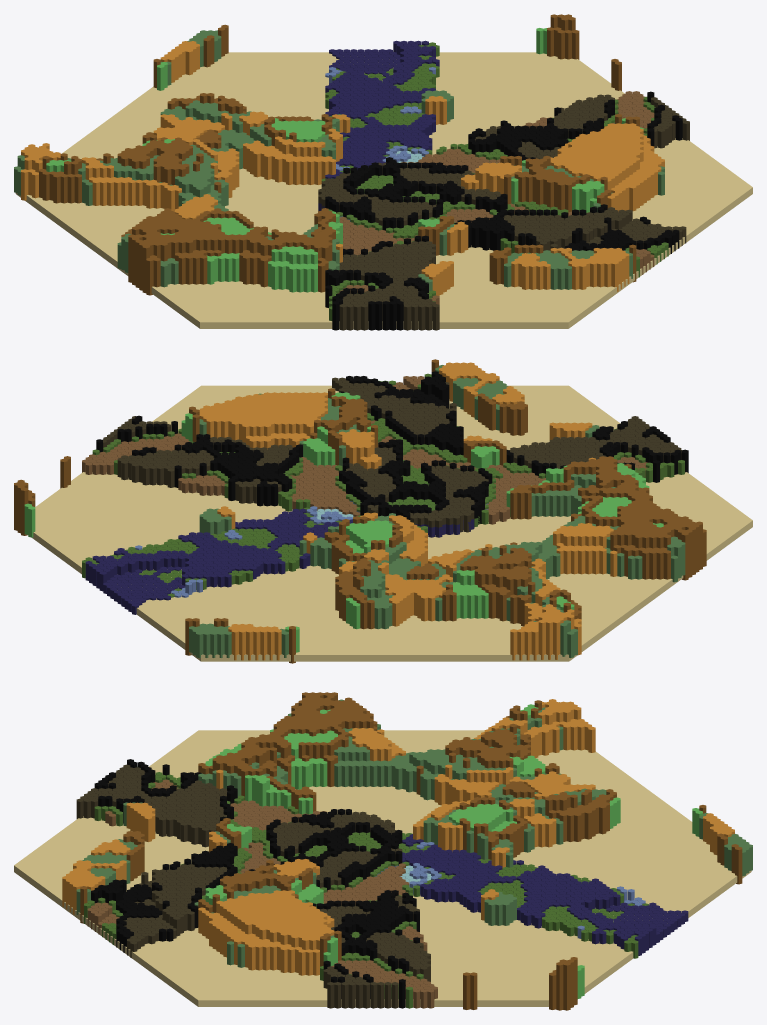
Rendered from 0013_tile_1122011.fbx.
3 views of the same model, one above another, from view 1: azimuth 30°, elevation 25°; view 2: azimuth 150°, elevation 25°; view 3: azimuth 270°, elevation 25° (orthographic).
Visible parts, largest first — view 1: Plane; view 2: Plane; view 3: Plane.
Boxes of the visible parts, x1,y1,x2,y2 form: Plane: (14,14,752,330); Plane: (14,359,752,663); Plane: (14,692,752,1010).
Size of the model in its own units: 1008 by 77.64 by 1152.
